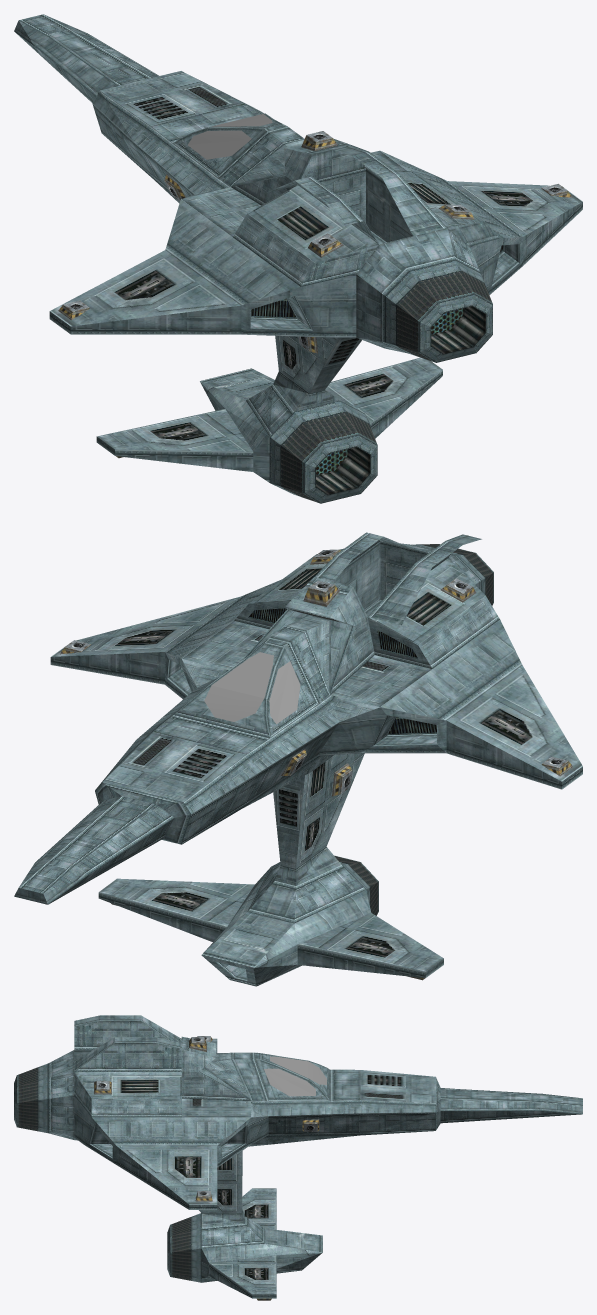
The model's file is BW_ELITE.fbx.
The picture shows the model from 3 angles, top to bottom: view 1: azimuth 30°, elevation 25°; view 2: azimuth 150°, elevation 25°; view 3: azimuth 270°, elevation 25°; orthographic projection. The views are drawn at different scales.
Parts seen in each view (by area): view 1: Group1, Group8, Group2, Group13, Group10, Group6, Group19, Group16, Group22, Group5, Group18, Group3 (+4 smaller); view 2: Group1, Group8, Group2, Group19, Group16, Group6, Group18, Group3, Group21, Group5, Group4, Group22 (+2 smaller); view 3: Group1, Group19, Group22, Group21, Group16, Group10, Group13, Group2, Group18, Group3, Group6, Group5.
Part boxes in pixels (box(x1,y1,x2,y2)): Group1: box(14, 14, 523, 482); Group8: box(49, 250, 241, 334); Group2: box(231, 139, 519, 330); Group13: box(269, 400, 377, 503); Group10: box(385, 260, 492, 362); Group6: box(96, 409, 253, 471); Group19: box(448, 181, 582, 265); Group16: box(325, 357, 442, 438); Group22: box(332, 145, 446, 235); Group5: box(164, 131, 474, 353); Group18: box(188, 114, 272, 159); Group3: box(173, 113, 287, 177); Group1: box(14, 543, 522, 986); Group8: box(446, 665, 582, 789); Group2: box(167, 541, 436, 980); Group19: box(50, 596, 240, 684); Group16: box(98, 878, 254, 941); Group6: box(297, 913, 443, 978); Group18: box(204, 652, 300, 724); Group3: box(174, 638, 317, 737); Group21: box(368, 534, 481, 625); Group5: box(281, 549, 476, 796); Group4: box(248, 608, 436, 734); Group22: box(314, 532, 413, 581); Group1: box(48, 1036, 582, 1282); Group19: box(116, 1145, 217, 1209); Group22: box(74, 1037, 181, 1071); Group21: box(74, 1015, 181, 1049); Group16: box(209, 1255, 276, 1298); Group10: box(14, 1063, 48, 1132); Group13: box(167, 1213, 201, 1282); Group2: box(74, 1050, 250, 1158); Group18: box(264, 1056, 326, 1096); Group3: box(254, 1052, 329, 1101); Group6: box(242, 1188, 276, 1229); Group5: box(94, 1037, 319, 1131).
Size of the model in its own units: 13.66 by 9.12 by 19.78.
